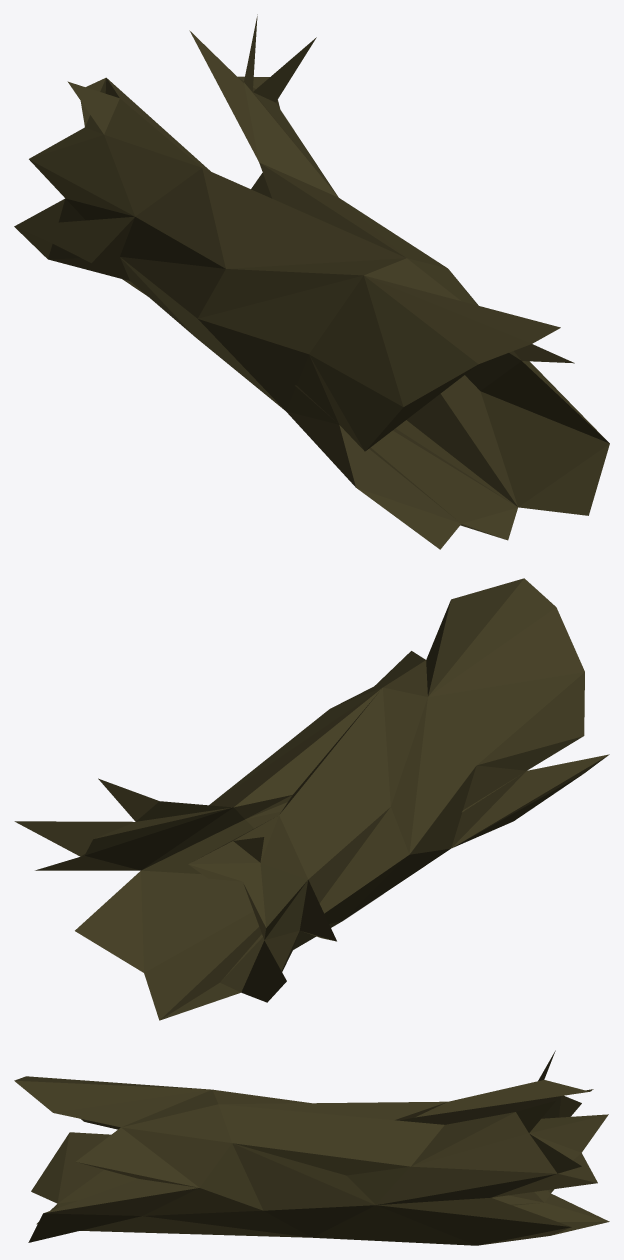
The model's file is rainforest-log.lod2.glb.
The picture shows the model from 3 angles, top to bottom: view 1: azimuth 30°, elevation 25°; view 2: azimuth 150°, elevation 25°; view 3: azimuth 270°, elevation 25°; orthographic projection. The views are drawn at different scales.
Parts seen in each view (by area): view 1: SM_RainForest_TreeTrunk_A_LOD0.mo_MI_RainForest_TreeTrunk_A_; view 2: SM_RainForest_TreeTrunk_A_LOD0.mo_MI_RainForest_TreeTrunk_A_; view 3: SM_RainForest_TreeTrunk_A_LOD0.mo_MI_RainForest_TreeTrunk_A_.
Boxes of the visible parts, bbox=[...] form: SM_RainForest_TreeTrunk_A_LOD0.mo_MI_RainForest_TreeTrunk_A_: bbox=[14, 14, 609, 549]; SM_RainForest_TreeTrunk_A_LOD0.mo_MI_RainForest_TreeTrunk_A_: bbox=[14, 578, 609, 1020]; SM_RainForest_TreeTrunk_A_LOD0.mo_MI_RainForest_TreeTrunk_A_: bbox=[14, 1050, 609, 1245].
Size of the model in its own units: 5.96 by 4.06 by 12.93.
